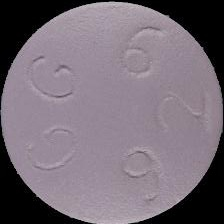0615-5554: (0, 0, 224, 224)
